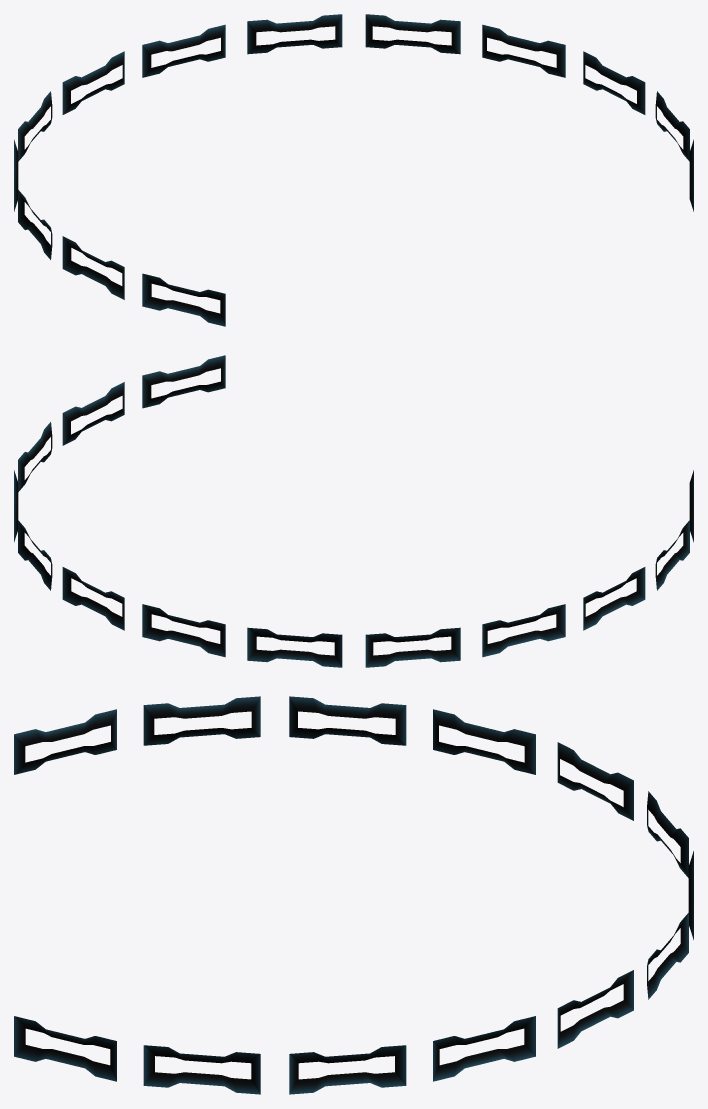
The model's file is ts_jjcgow001.FBX.
The picture shows the model from 3 angles, top to bottom: view 1: azimuth 30°, elevation 25°; view 2: azimuth 150°, elevation 25°; view 3: azimuth 270°, elevation 25°; orthographic projection. The views are drawn at different scales.
Parts seen in each view (by area): view 1: ts_jjcgow001; view 2: ts_jjcgow001; view 3: ts_jjcgow001.
Boxes of the visible parts, x1,y1,x2,y2 form: ts_jjcgow001: [14, 14, 693, 326]; ts_jjcgow001: [14, 355, 693, 667]; ts_jjcgow001: [14, 696, 693, 1094].
Bounding box in the file's own units: 40.19 × 2.13 × 32.3.
